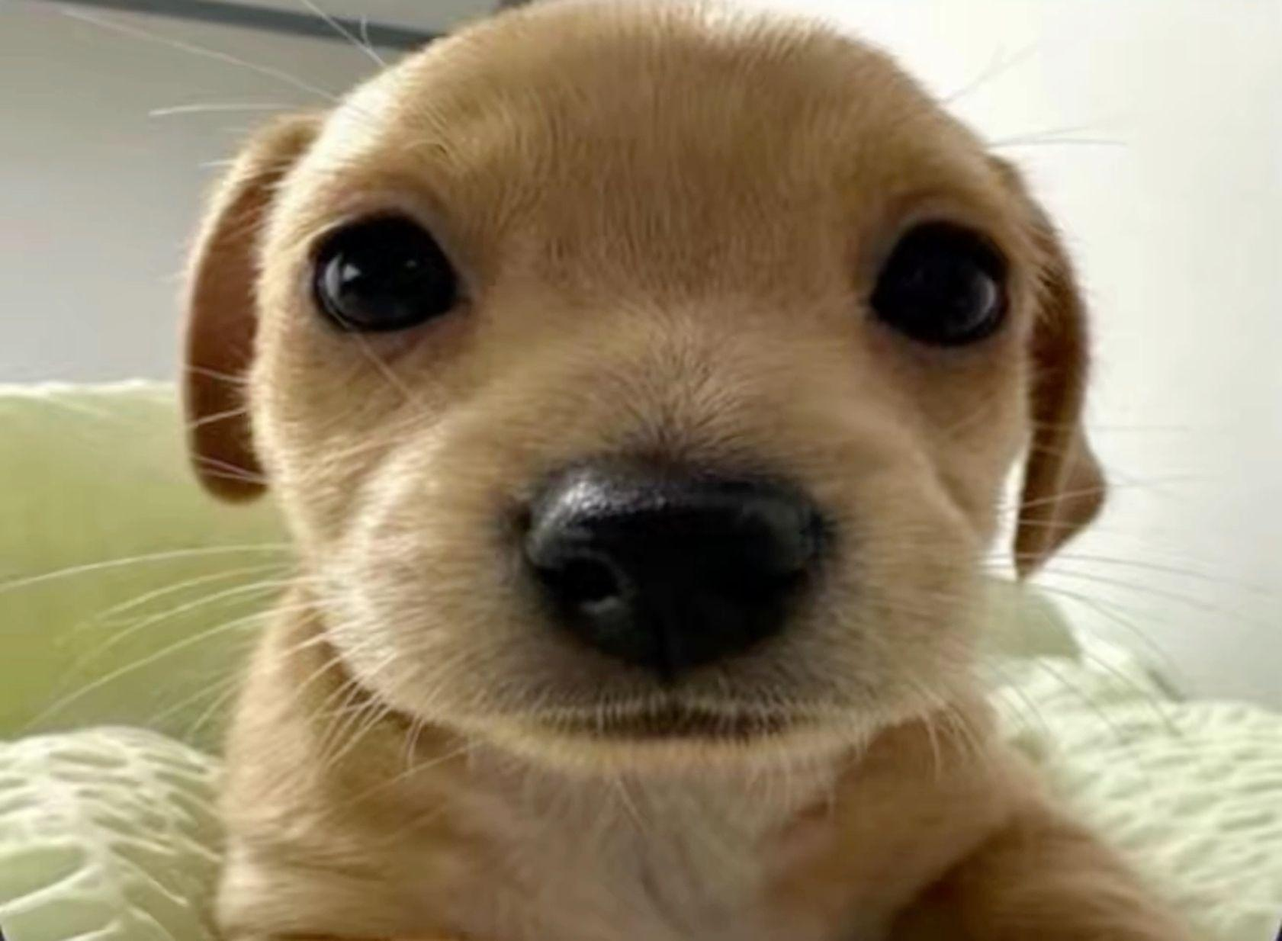puppy-dog: (168, 1, 1177, 941)
